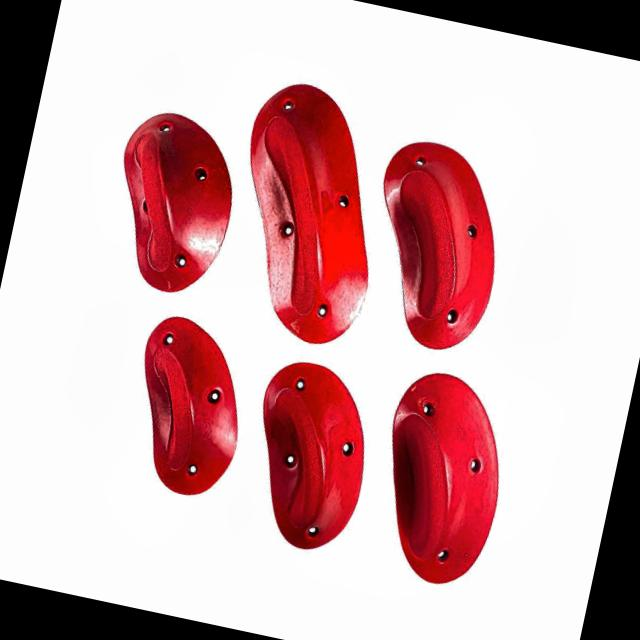Hold: (210, 73, 407, 354), (350, 130, 520, 360), (360, 361, 522, 594), (234, 352, 385, 560), (97, 104, 249, 304), (114, 309, 260, 505)
